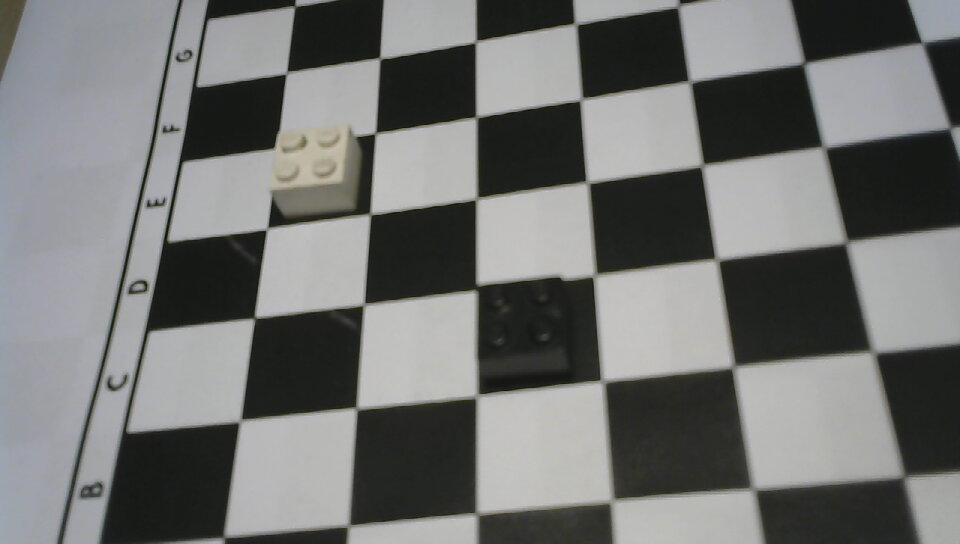bp: (469, 270, 577, 386)
